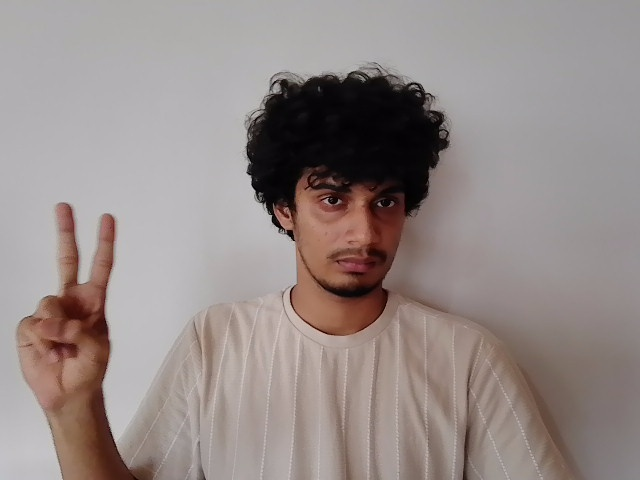travel: (13, 197, 134, 402)
